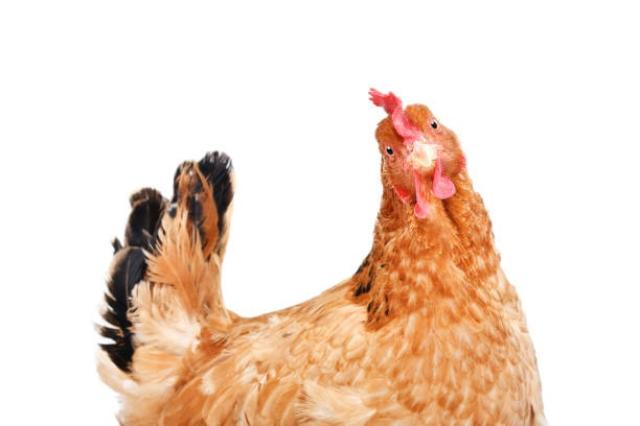Chicken: (94, 86, 550, 426)
